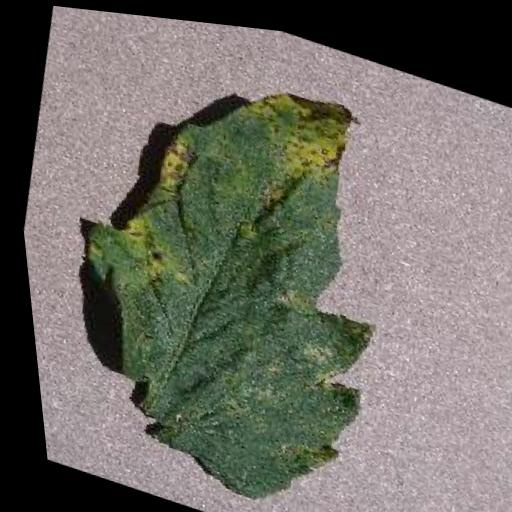Septoria: (16, 18, 433, 512)
